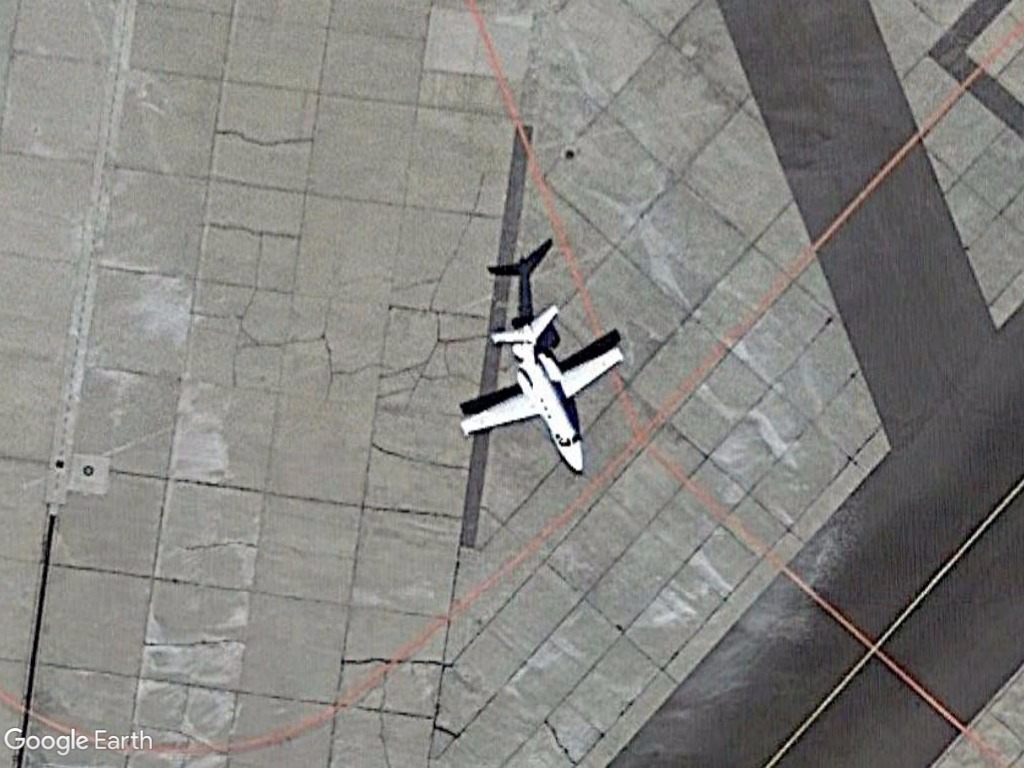chartered: (448, 300, 632, 481)
